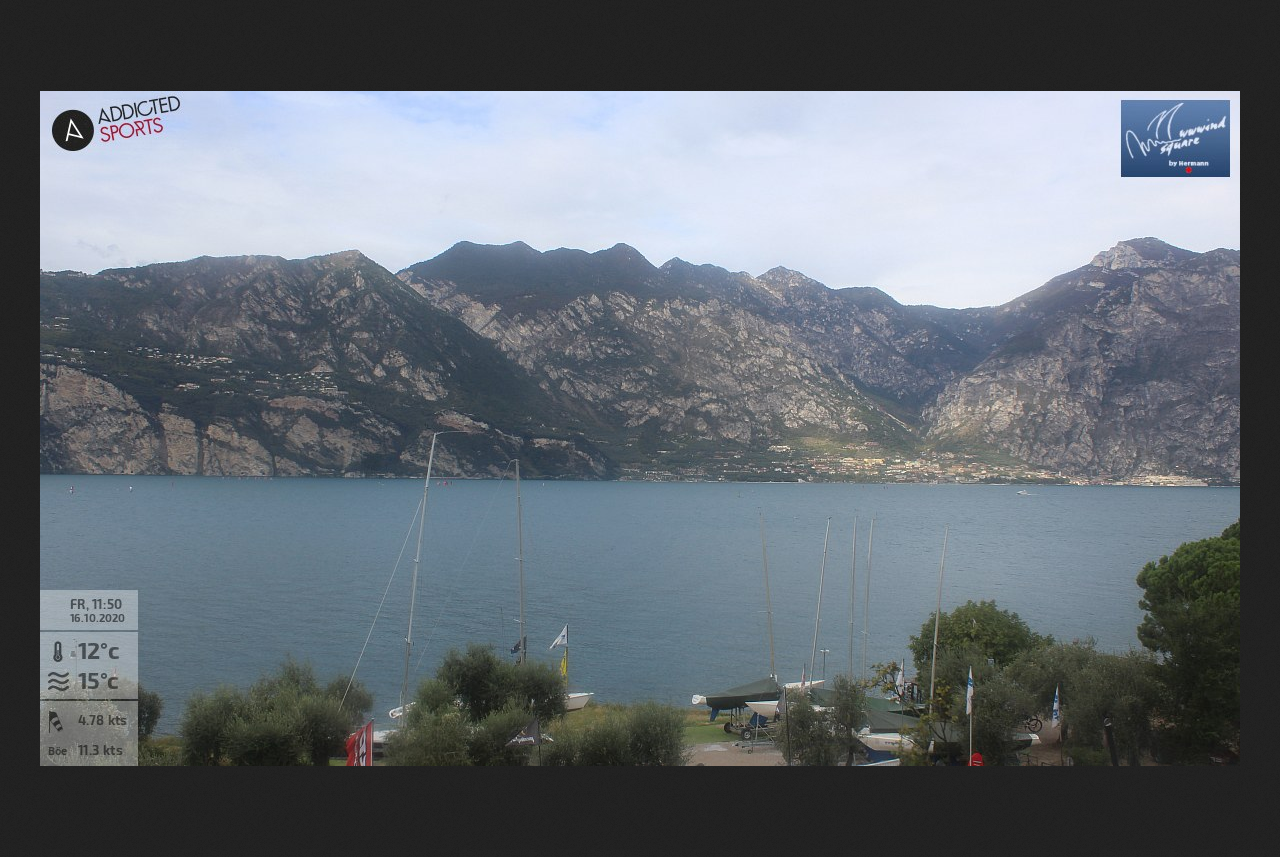maybe: (548, 624, 568, 648), (510, 636, 526, 650)
no: (1049, 679, 1061, 727), (964, 670, 976, 717)
